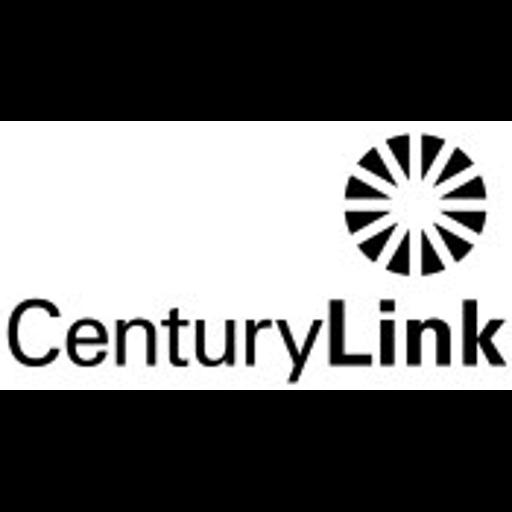CenturyLink: (0, 121, 512, 390)
